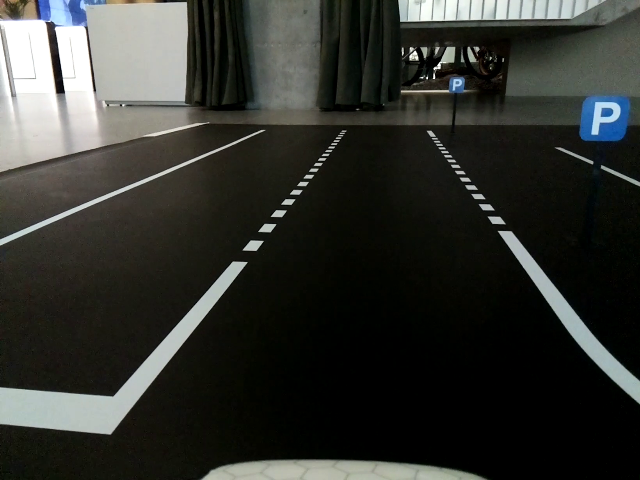park: (581, 96, 626, 143), (449, 78, 466, 92)
